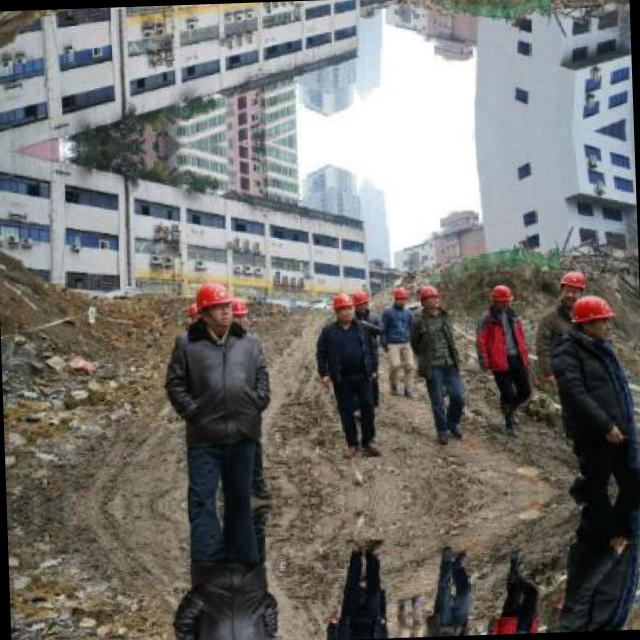helmet: (566, 292, 622, 342), (187, 279, 234, 332), (554, 264, 592, 298), (228, 291, 251, 333), (488, 278, 516, 312), (327, 286, 352, 322), (416, 281, 444, 311), (351, 286, 371, 318), (389, 284, 410, 310)
